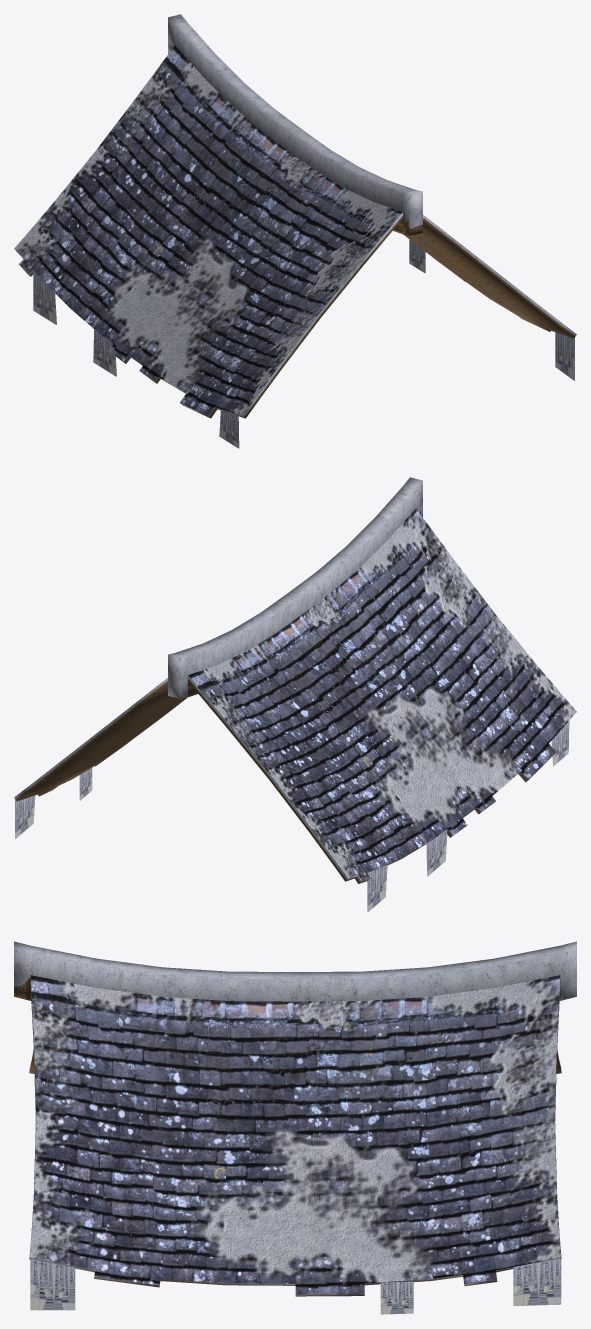
File: roof.fbx
3 views of the same model, one above another, from view 1: azimuth 30°, elevation 25°; view 2: azimuth 150°, elevation 25°; view 3: azimuth 270°, elevation 25° (orthographic). The views are drawn at different scales.
Parts seen in each view (by area): view 1: roof; view 2: roof; view 3: roof.
Boxes of the visible parts, x1,y1,x2,y2 form: roof: (14,14,576,448); roof: (14,477,576,912); roof: (14,941,576,1314).
Size of the model in its own units: 574 by 383 by 693.
Materials: 4 (4 with a texture image).
